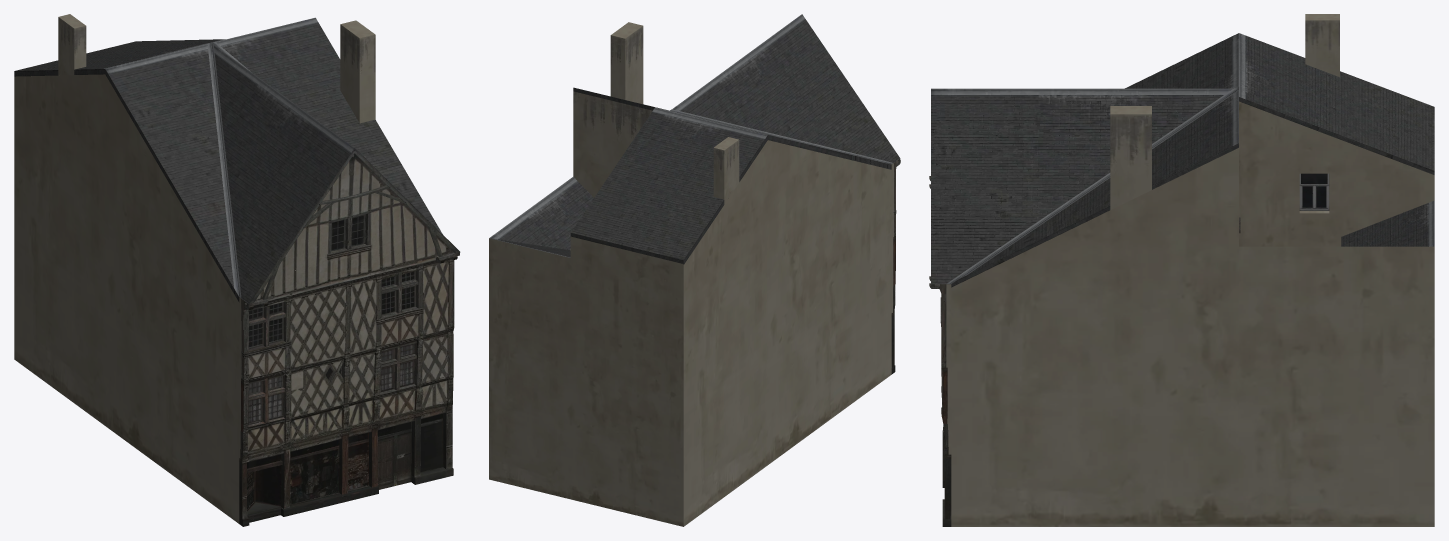
The model's file is shop1.glb.
3 renders of one model, left to right at view 1: azimuth 30°, elevation 25°; view 2: azimuth 150°, elevation 25°; view 3: azimuth 270°, elevation 25°, orthographic. The views are drawn at different scales.
Visible parts, largest first — view 1: angers 1_1_0; view 2: angers 1_1_0; view 3: angers 1_1_0.
Part boxes in pixels (box(x1,y1,x2,y2)): angers 1_1_0: box(14, 14, 460, 526); angers 1_1_0: box(489, 14, 900, 526); angers 1_1_0: box(929, 14, 1434, 526).
Bounding box in the file's own units: 8.07 × 13.95 × 15.49.
Materials: 1 (1 with a texture image).
